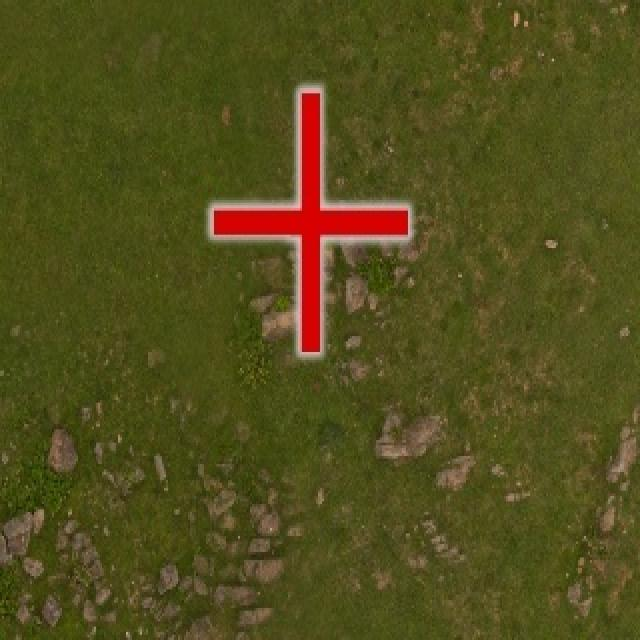x_marker: (211, 89, 407, 351)
